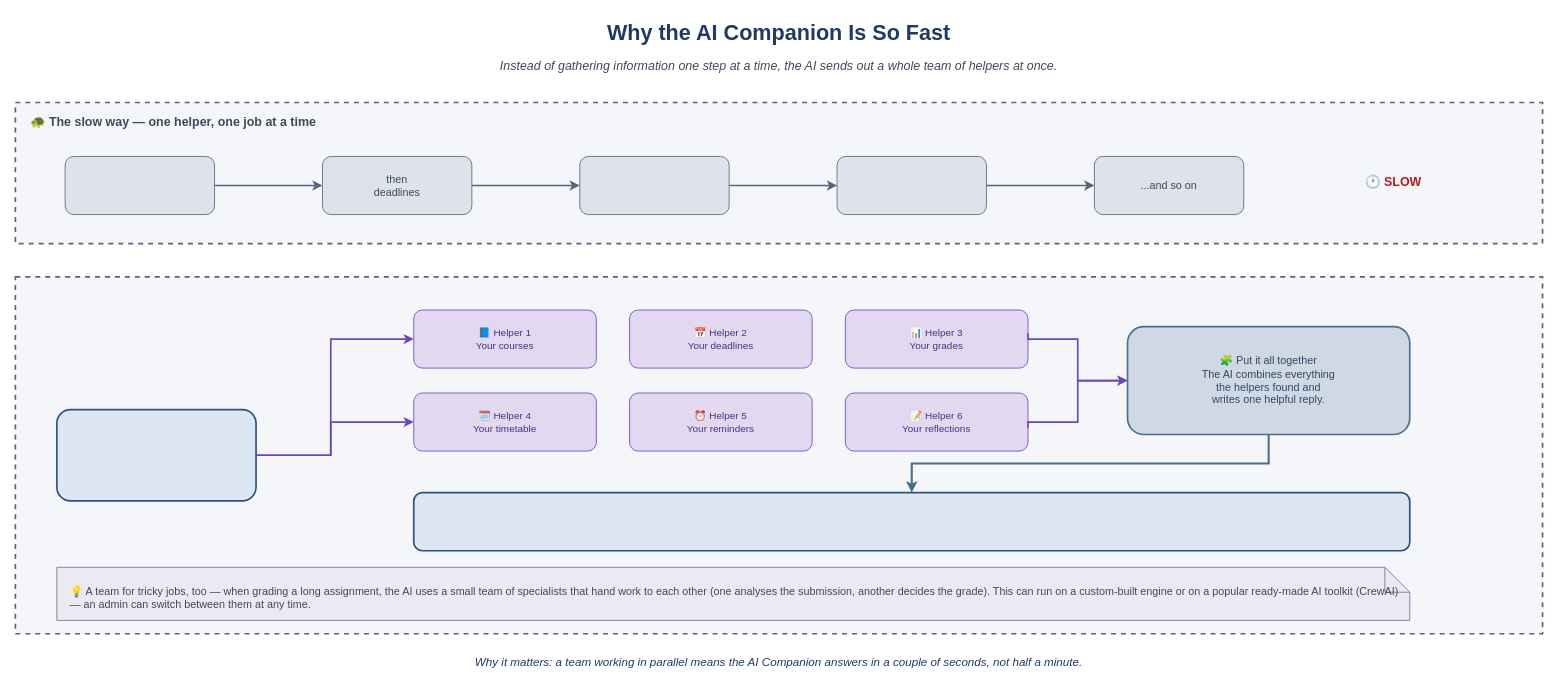
The diagram is 1557 pixels wide and 689 high, and some of its shapes have lost their labels. Each missing label, with the box of its shape:
Look up courses: (64, 156, 215, 215)
then grades: (579, 156, 729, 215)
then timetable: (836, 156, 986, 215)
💬 Fast, personalised answer — about 5× quicker than asking one step at a time: (413, 491, 1410, 551)
🙋 Student opens the AI Companion: (56, 408, 256, 501)
🚀 The MySmartStudy way — a whole team, all at once: (14, 276, 1543, 634)
